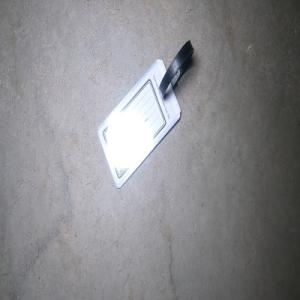LuggageTag: (95, 38, 195, 190)
